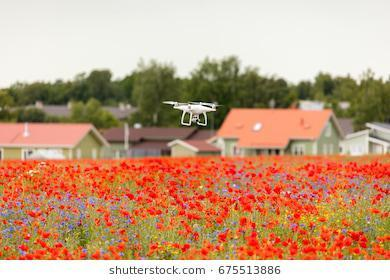drone: (164, 101, 220, 127)
